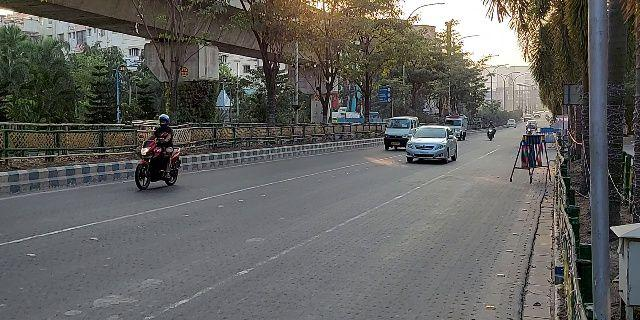Car: (402, 123, 460, 167)
Motorbike: (133, 112, 182, 193), (482, 117, 500, 143)
Van: (381, 114, 414, 151)
